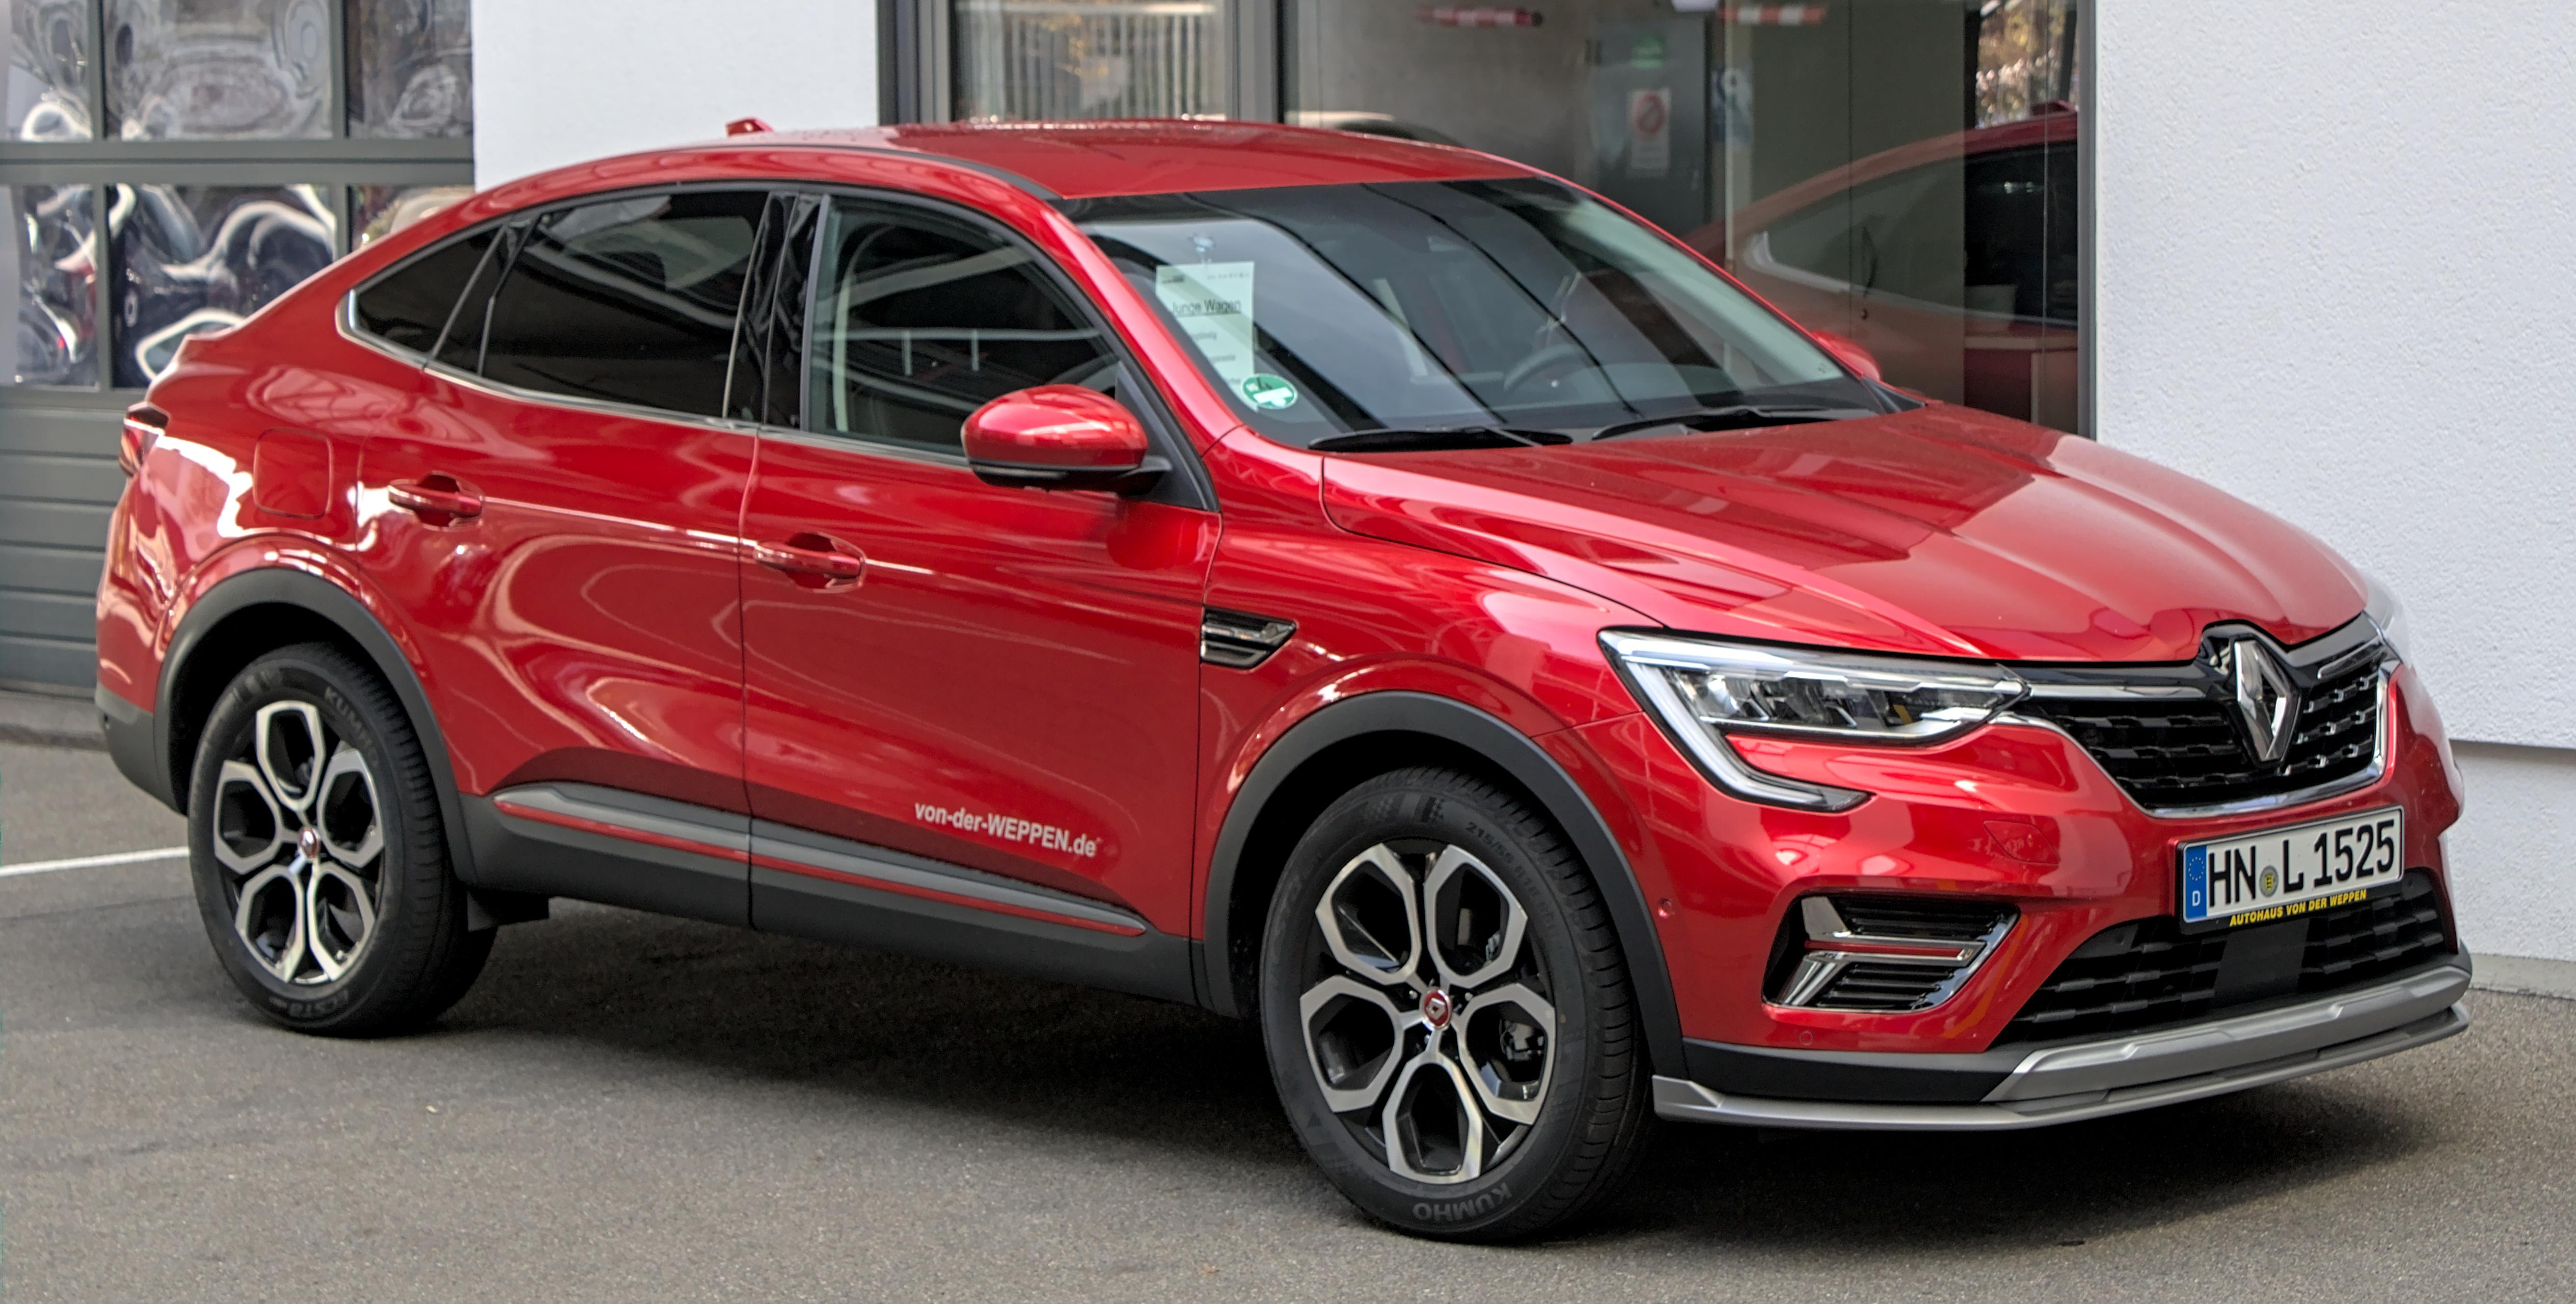Renault: (2220, 627, 2310, 778)
